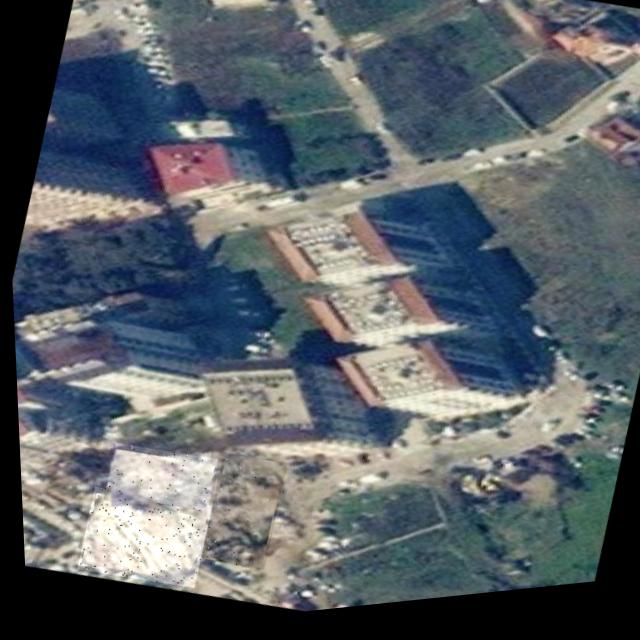Rubble: (69, 478, 210, 600), (191, 450, 286, 579), (96, 435, 215, 528)
